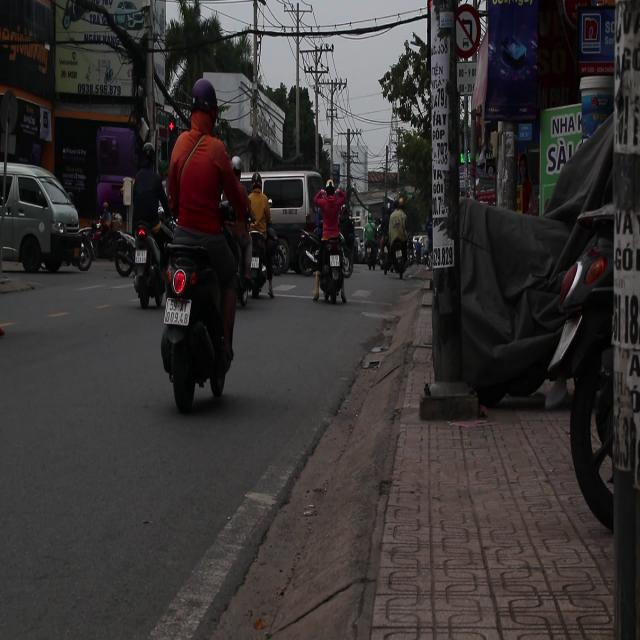car: (1, 162, 95, 277)
motorbike: (158, 228, 239, 414), (123, 216, 168, 309), (106, 220, 136, 277)
truck: (244, 168, 324, 278)
